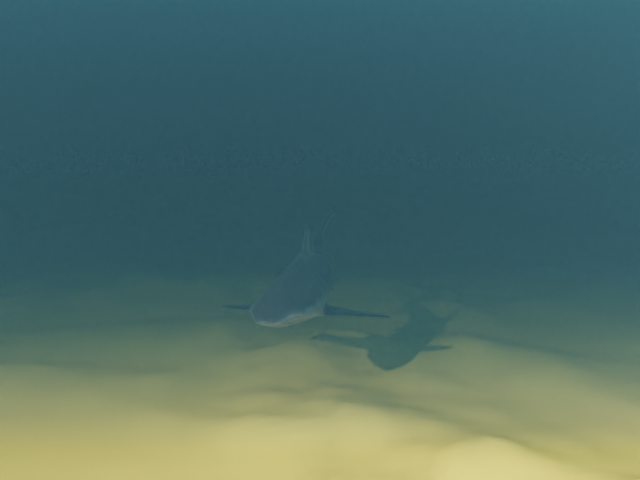Carribean Shark.001: (221, 205, 391, 327)
